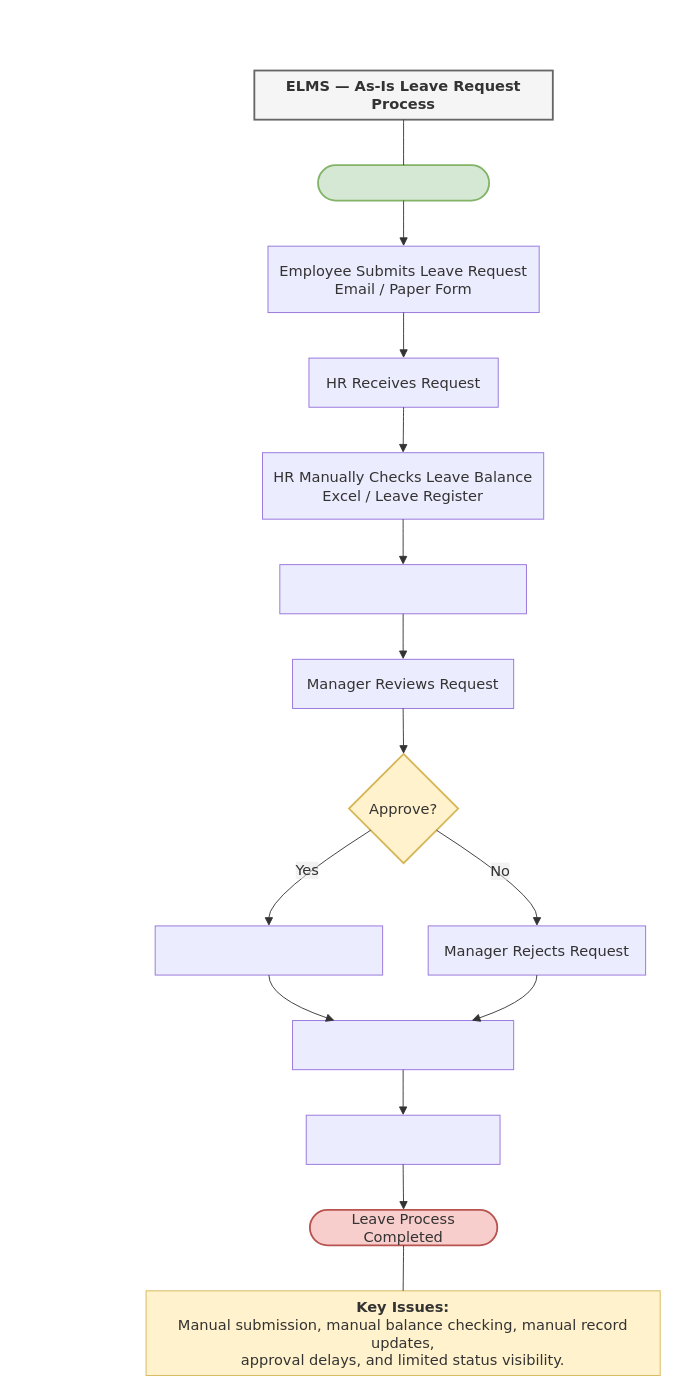
This 676x1391 diagram has some shape labels left out. Each missing label, with the box of its shape:
Employee Needs Leave: (317, 164, 490, 201)
HR Informs Employee: (305, 1114, 500, 1164)
HR Sends Request to Manager: (279, 564, 526, 614)
HR Updates Leave Record: (292, 1020, 514, 1070)
Manager Approves Request: (154, 925, 383, 975)
